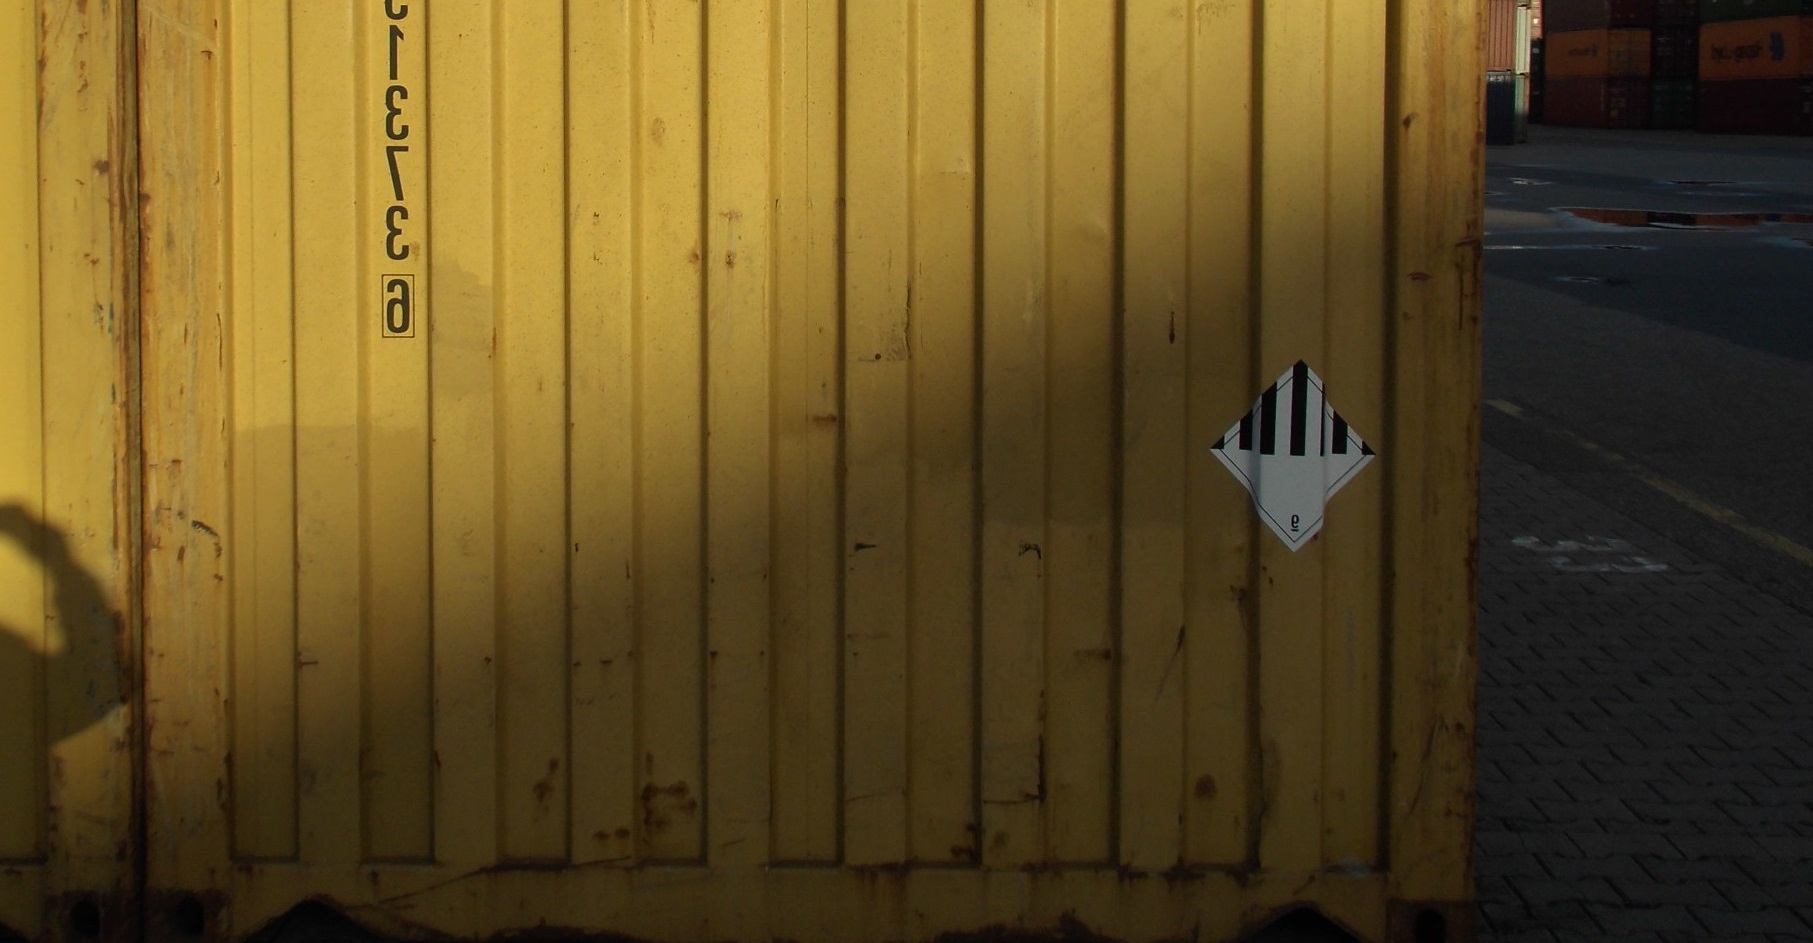container_no_door: (147, 1, 1477, 929)
